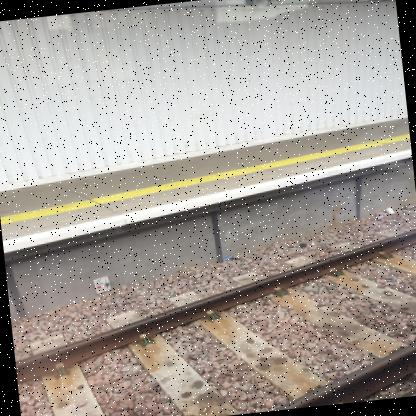Disposable plastic cup: (221, 254, 234, 261)
Drink can: (374, 215, 383, 220)
Paper cup: (385, 207, 395, 215)
Plastic lid: (299, 243, 307, 247)
Plastic straw: (392, 207, 397, 208)
Unlabeled litter: (376, 212, 387, 216)
